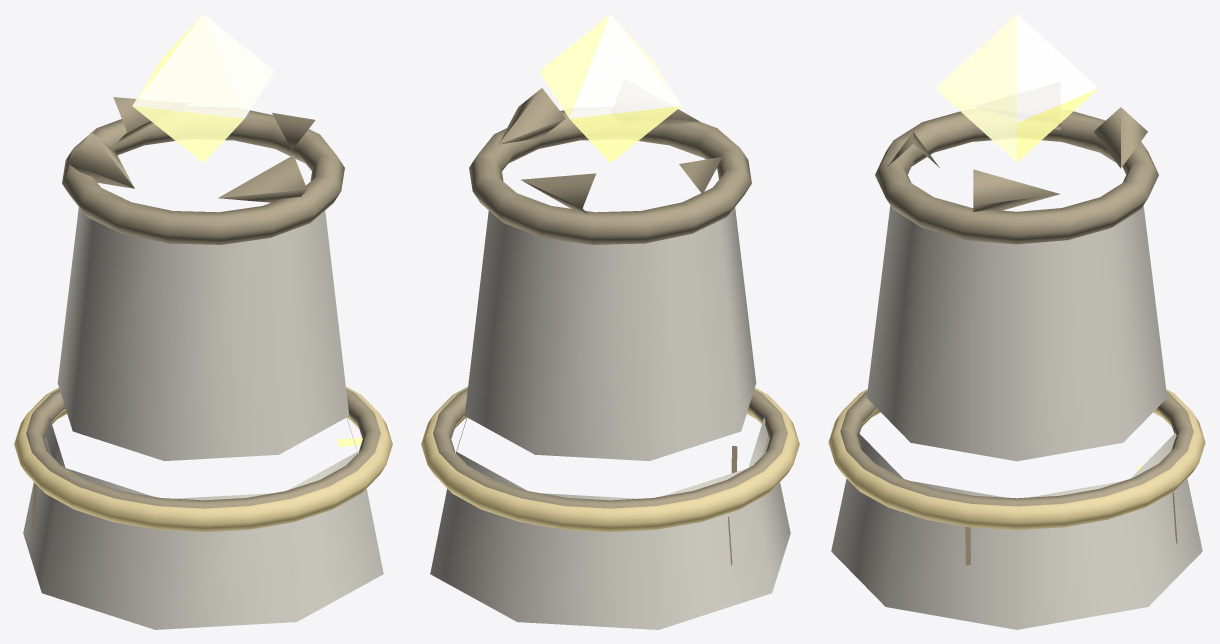
Rendered from tower_skyguard_1.glb.
The picture shows the model from 3 angles, left to right: view 1: azimuth 30°, elevation 25°; view 2: azimuth 150°, elevation 25°; view 3: azimuth 270°, elevation 25°; orthographic projection.
Visible parts, largest first — view 1: turret, base; view 2: turret, base; view 3: turret, base.
Boxes of the visible parts, x1=… form: turret: x1=57, y1=14, x2=349, y2=461; base: x1=14, y1=386, x2=392, y2=629; turret: x1=464, y1=14, x2=756, y2=461; base: x1=421, y1=386, x2=799, y2=629; turret: x1=866, y1=14, x2=1167, y2=461; base: x1=828, y1=389, x2=1205, y2=629.
Bounding box in the file's own units: 2.76 × 4.34 × 2.76.
